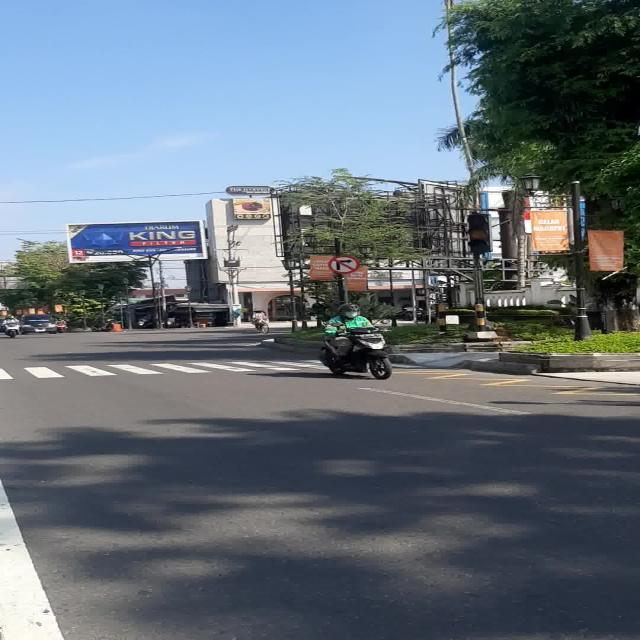Dilarang Belok Kanan: (328, 256, 359, 274)
